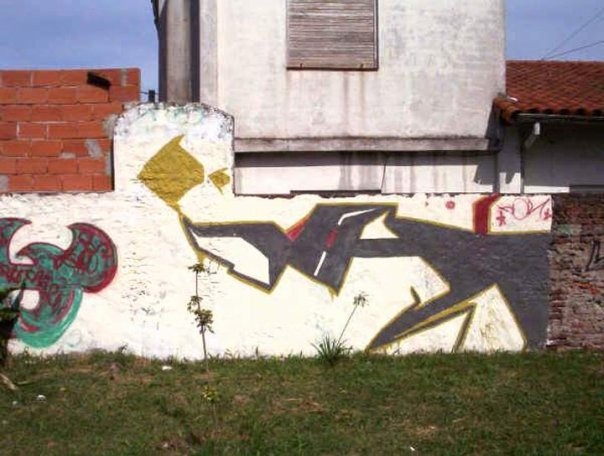graffity: (136, 129, 553, 363), (1, 210, 120, 353)
